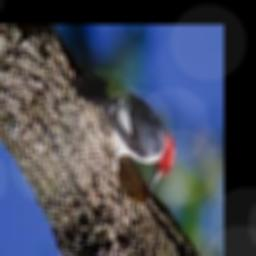Woodpecker: (73, 61, 175, 193)
